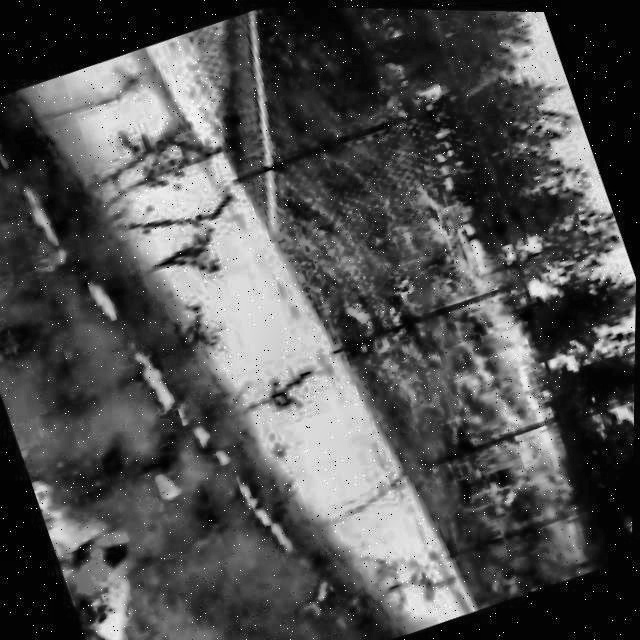Fire: (58, 520, 156, 619)
